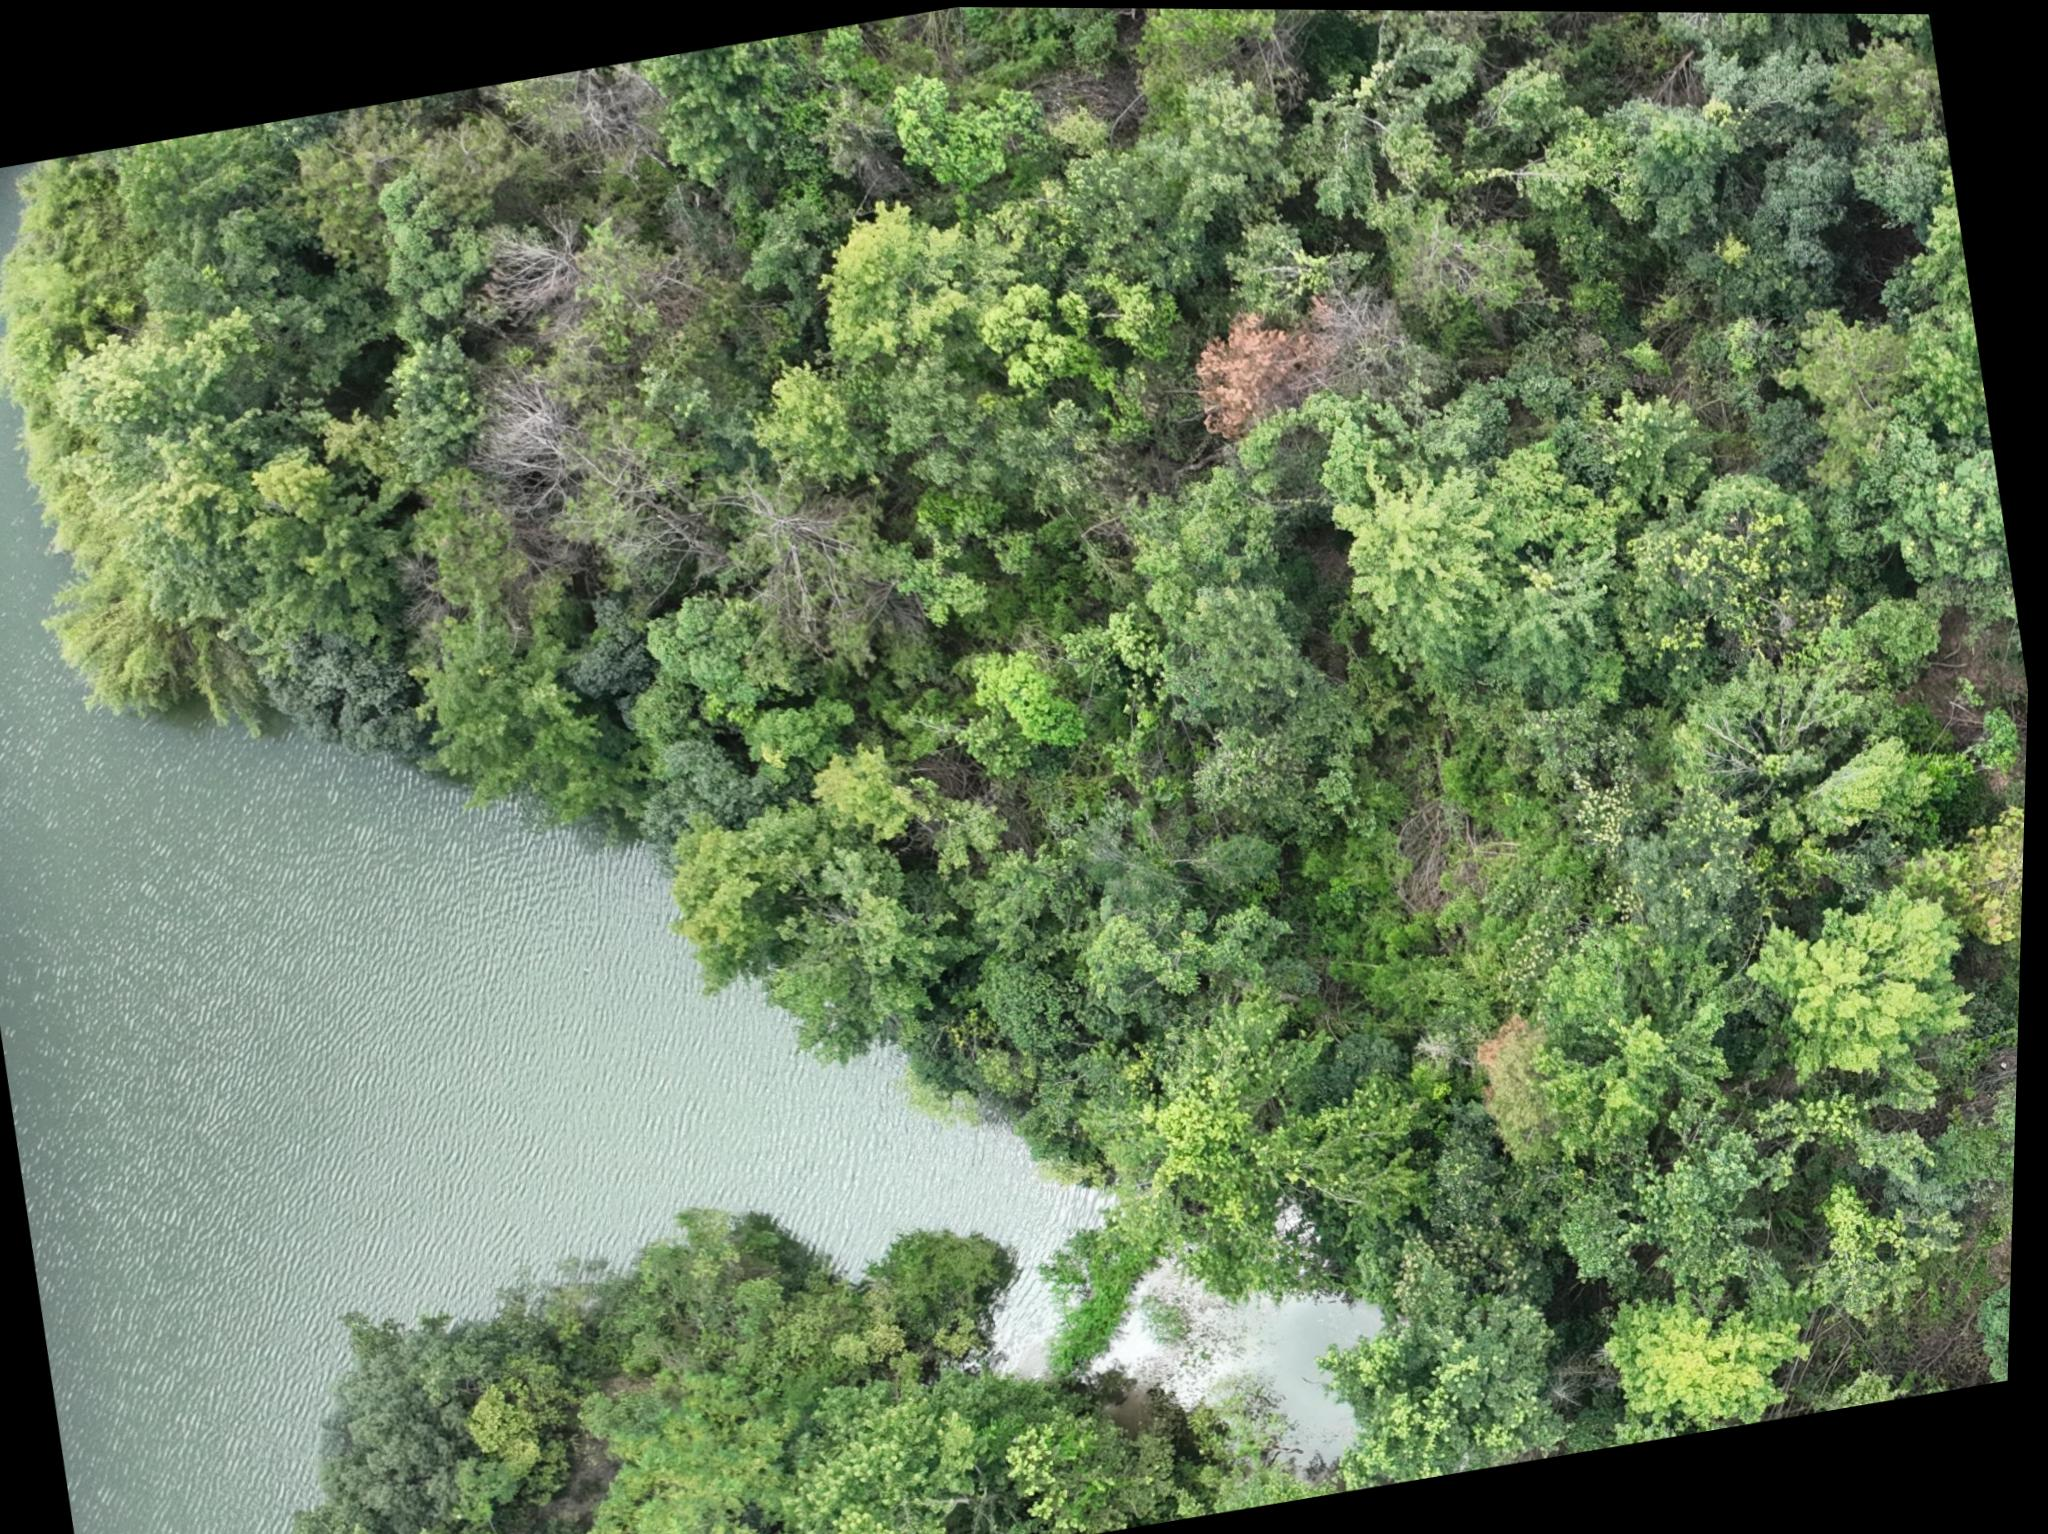dead: (471, 361, 593, 498), (475, 214, 591, 327), (1328, 290, 1412, 404)
heavy: (1183, 298, 1344, 445)
light: (1468, 999, 1592, 1168)
